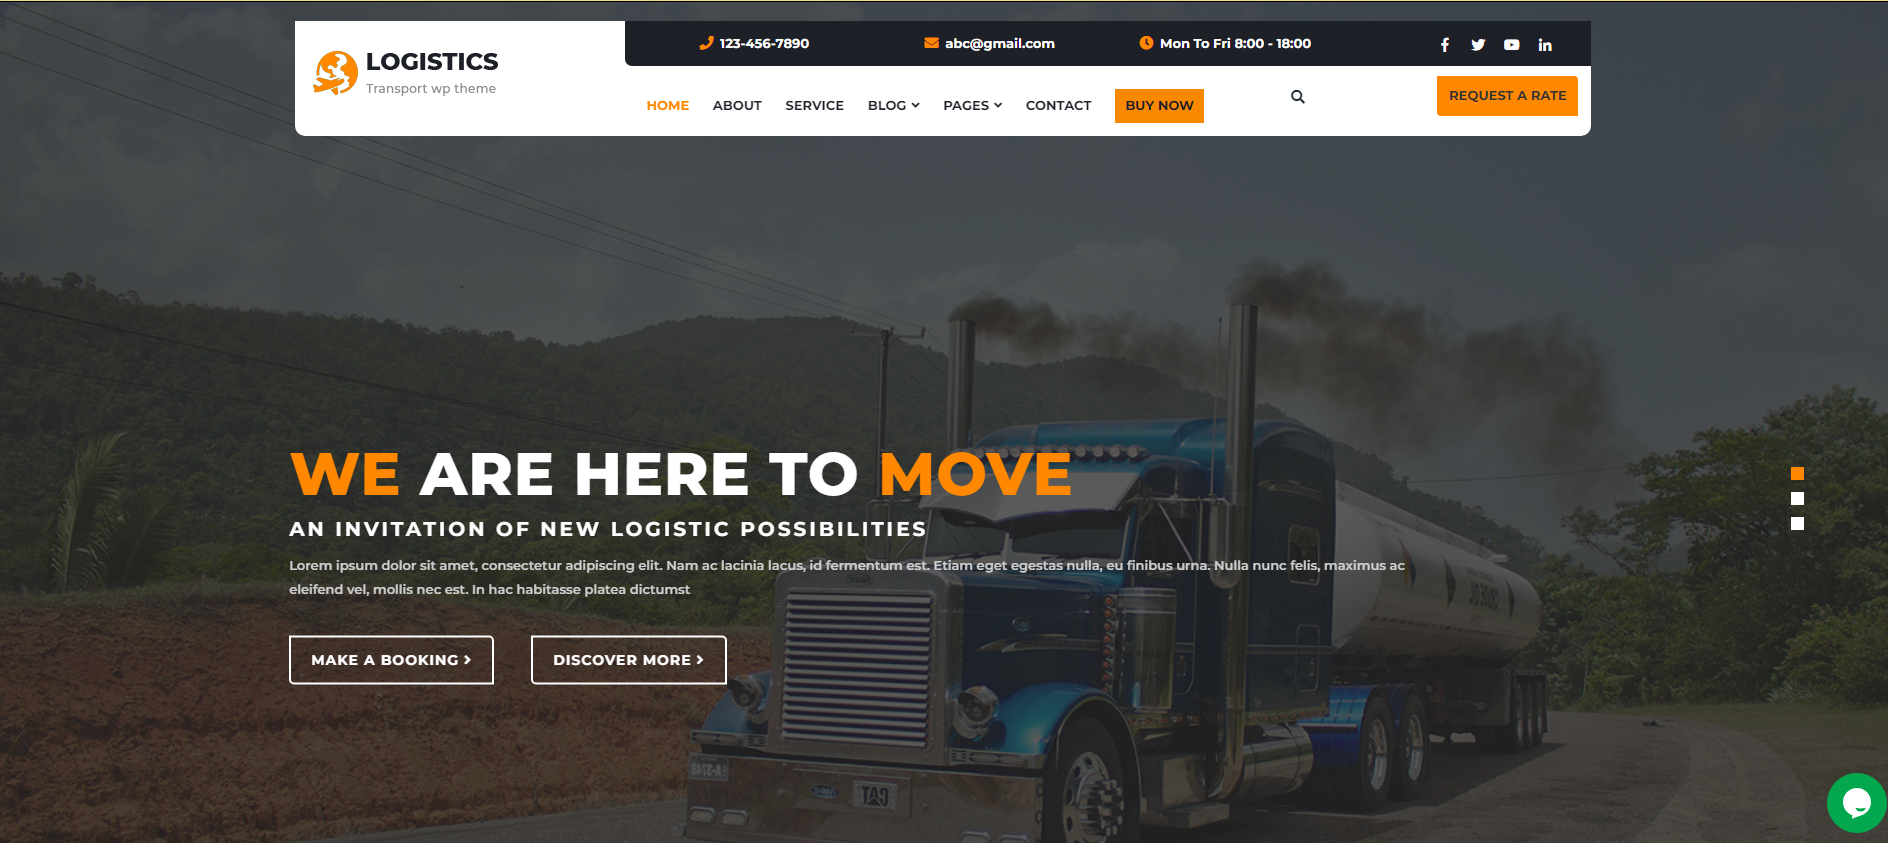menu: (20, 10, 1869, 172)
